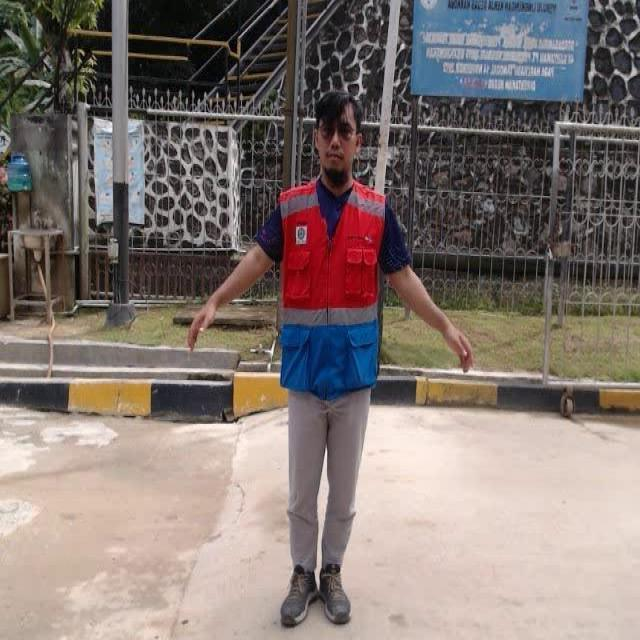safety_vest: (275, 180, 389, 392)
